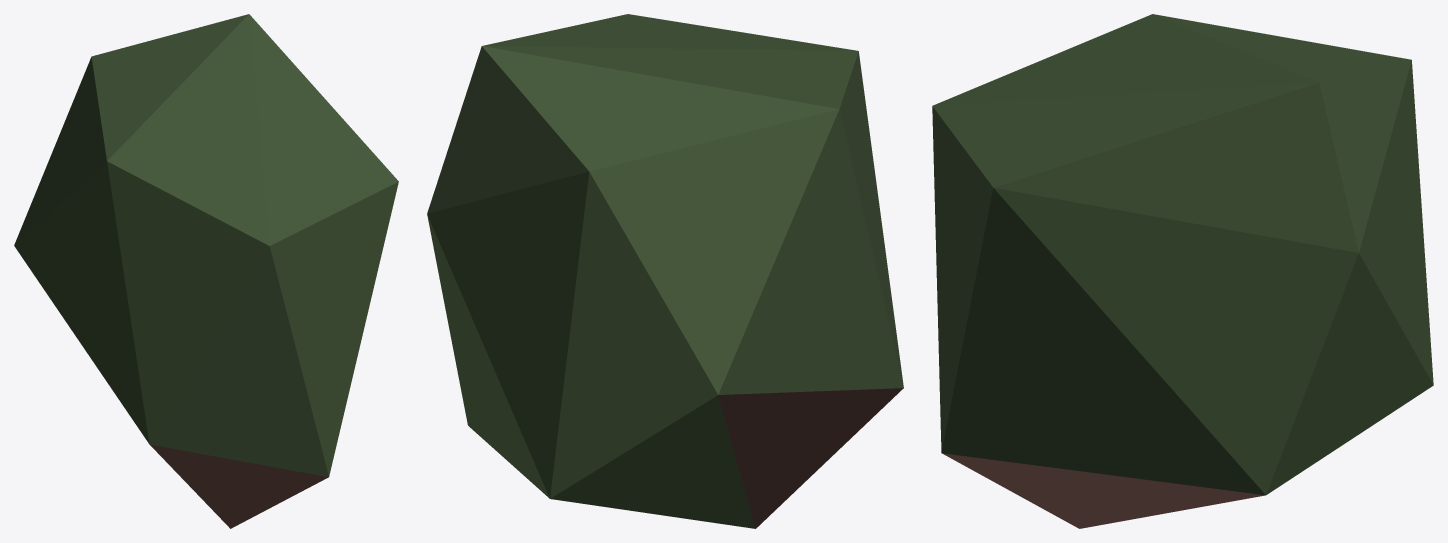
File: Willow_4.lod4.glb
3 renders of one model, left to right at view 1: azimuth 30°, elevation 25°; view 2: azimuth 150°, elevation 25°; view 3: azimuth 270°, elevation 25°, orthographic. The views are drawn at different scales.
Visible parts, largest first — view 1: Willow_4; view 2: Willow_4; view 3: Willow_4.
Part boxes in pixels (<box>): Willow_4: <box>14,14,398,528</box>; Willow_4: <box>427,14,903,528</box>; Willow_4: <box>932,14,1433,528</box>.
Bounding box in the file's own units: 2.13 × 3.45 × 3.04.
